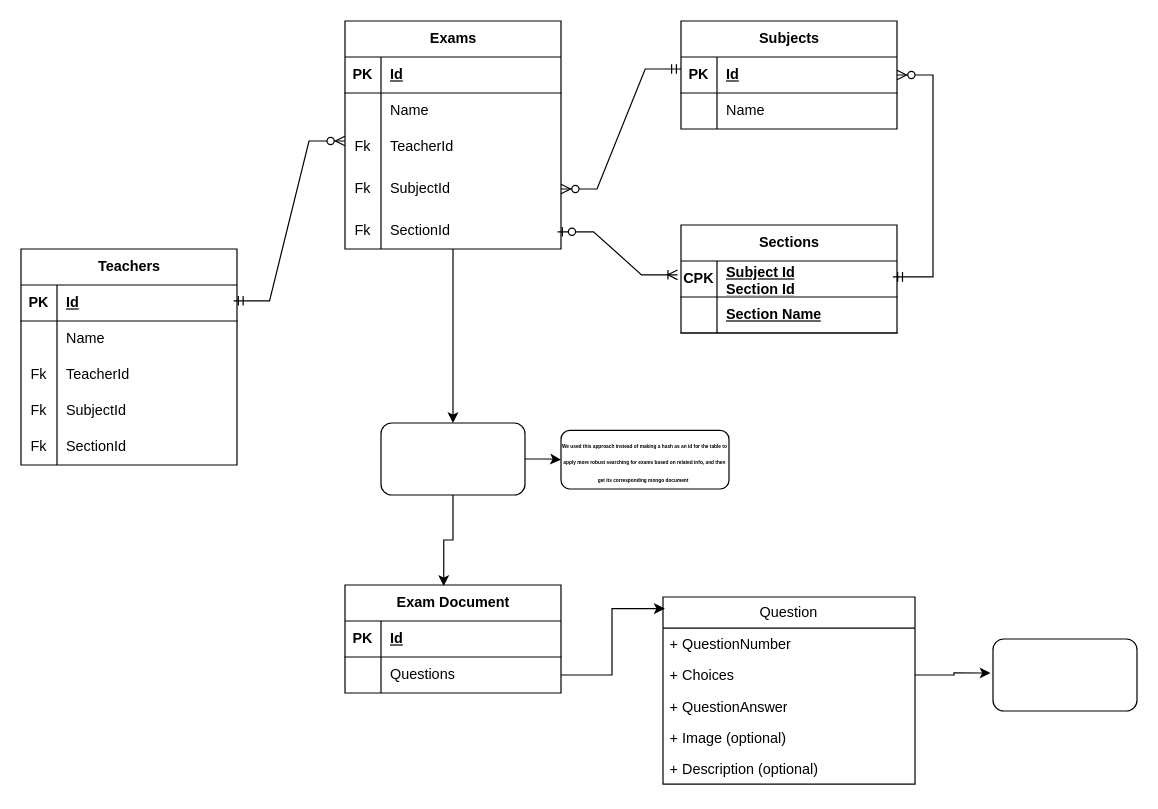
Image size: 1158x809. Some labels were removed from this diagram. Each missing label, with the centre of its shape:
Generator For Quiz Hash Id: pixel 452 458
The choice may be an image: pixel 1064 674
